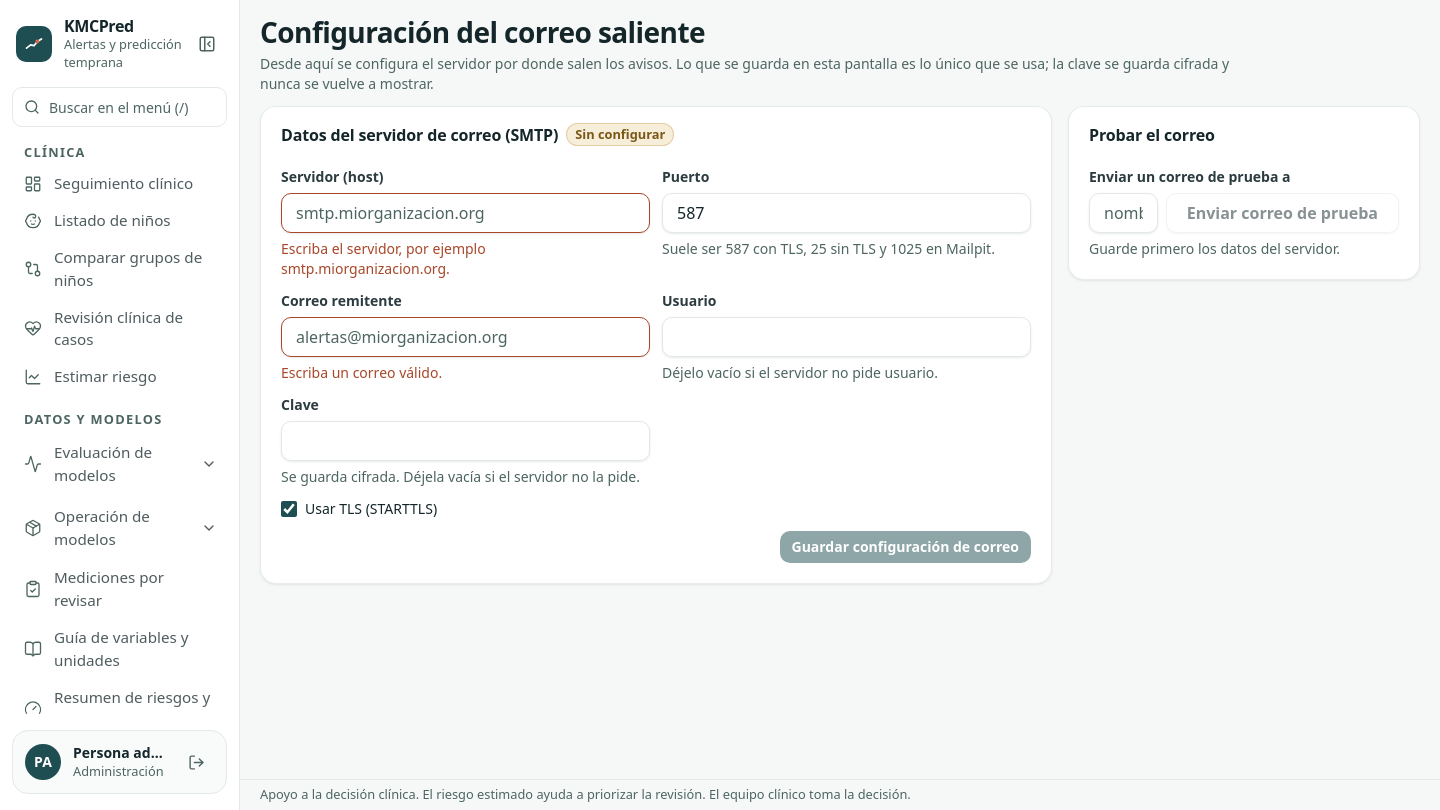
Scenario: Configuración del correo saliente › avisa si falta la llave para guardar la clave
In the password field labelled "Clave": (466, 441) 281,421 -> 650,461, type "x"
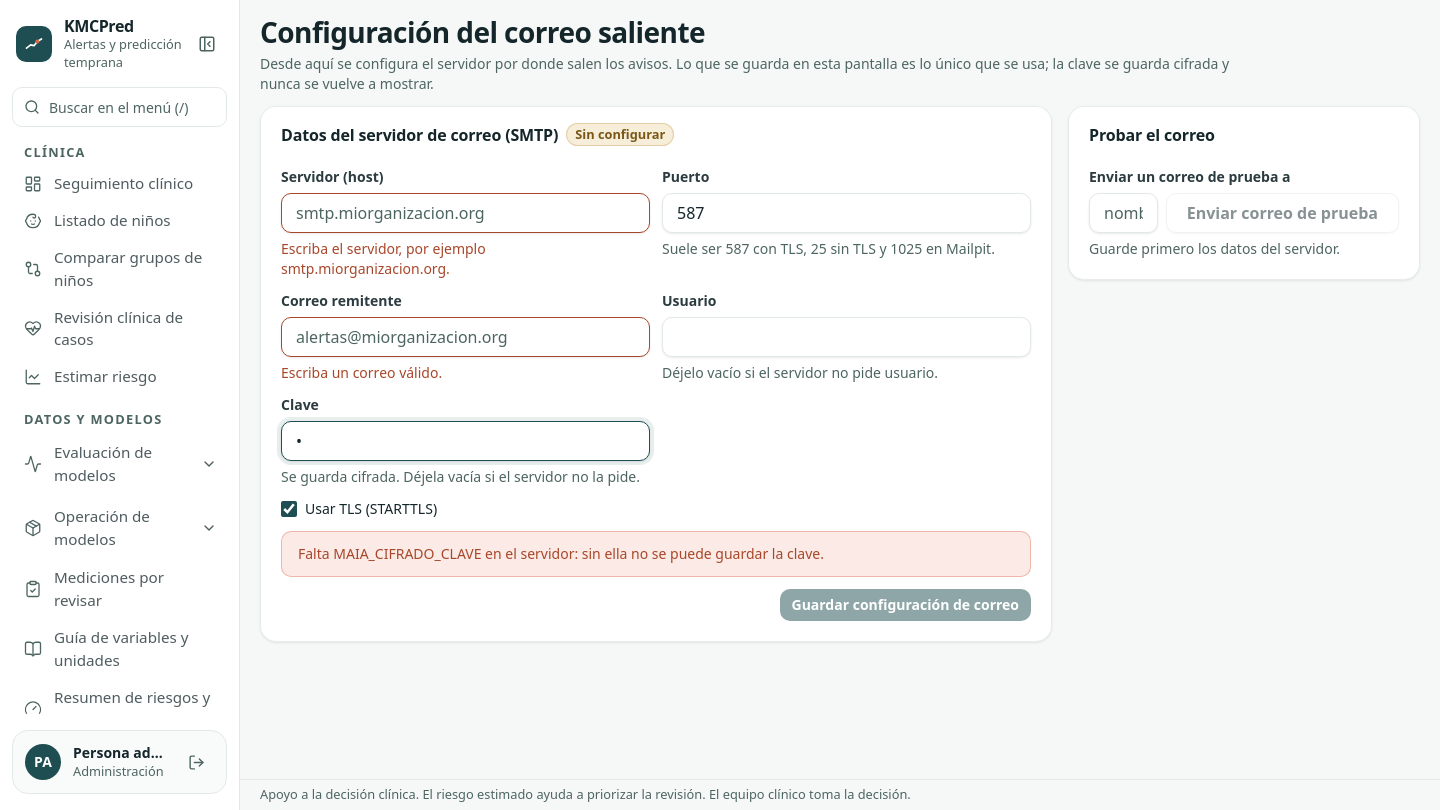
Expected: the text "MAIA_CIFRADO_CLAVE" is shown, 298,544 -> 824,563
